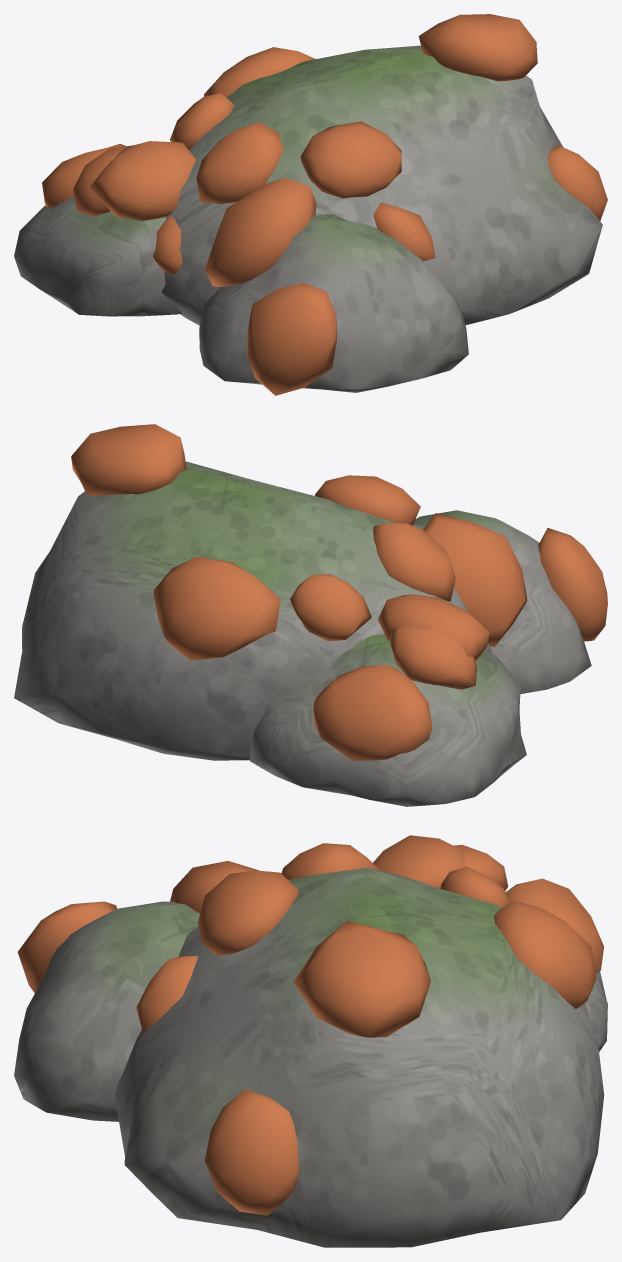
File: ore_copper_cluster.glb
3 views of the same model, one above another, from view 1: azimuth 30°, elevation 25°; view 2: azimuth 150°, elevation 25°; view 3: azimuth 270°, elevation 25° (orthographic). The views are drawn at different scales.
Parts seen in each view (by area): view 1: ore_copper_stone, ore_copper; view 2: ore_copper_stone, ore_copper; view 3: ore_copper_stone, ore_copper.
Part boxes in pixels (x1,y1,x2,y2): ore_copper_stone: [14, 45, 602, 392]; ore_copper: [42, 14, 607, 395]; ore_copper_stone: [14, 461, 591, 806]; ore_copper: [71, 424, 607, 760]; ore_copper_stone: [14, 867, 607, 1247]; ore_copper: [17, 835, 603, 1215].
Size of the model in its own units: 1.92 by 0.8487 by 1.67.
Materials: 2 (1 with a texture image).
